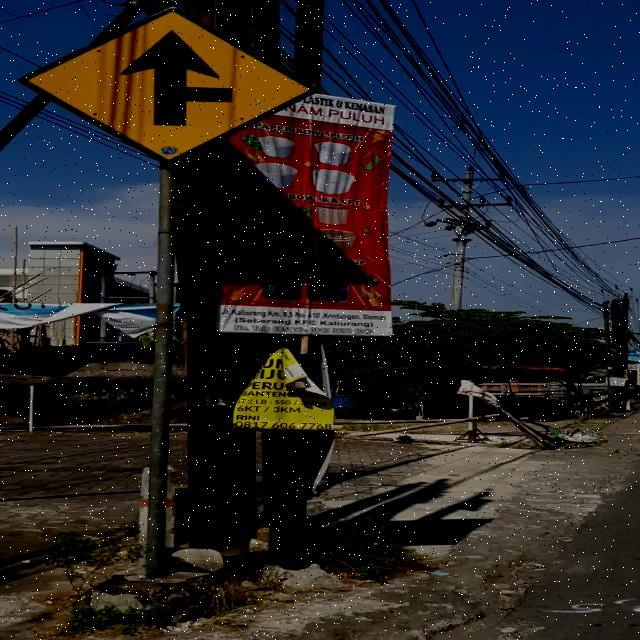Persimpangan 3 Prioritas Kanan: (18, 6, 318, 166)
